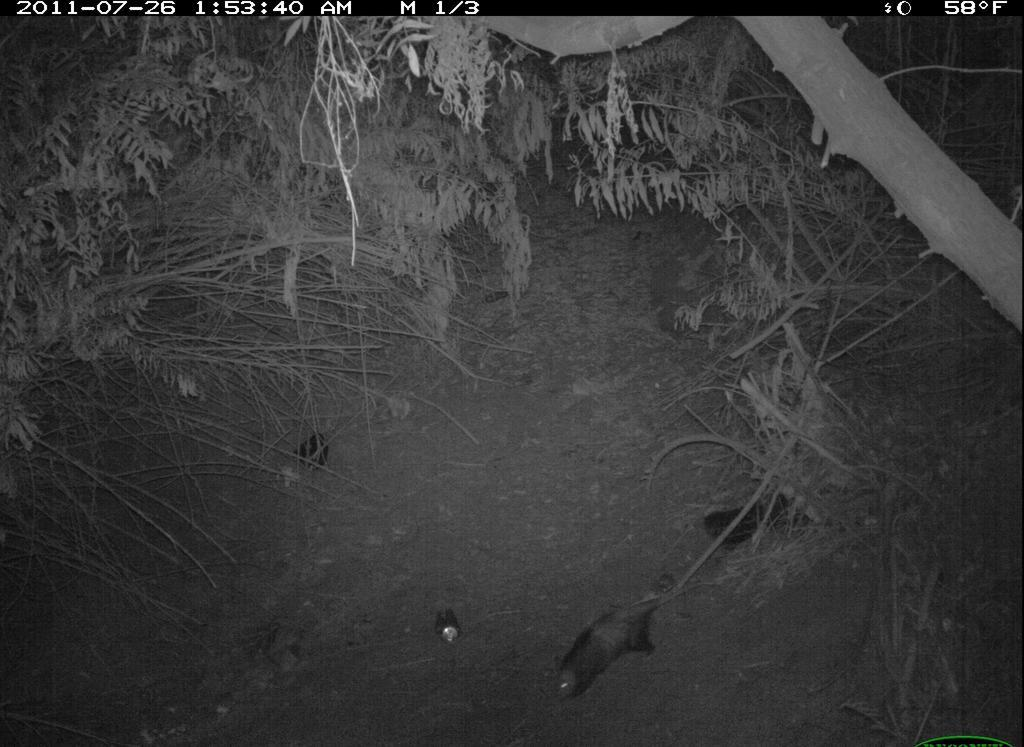opossum: (537, 570, 693, 724)
